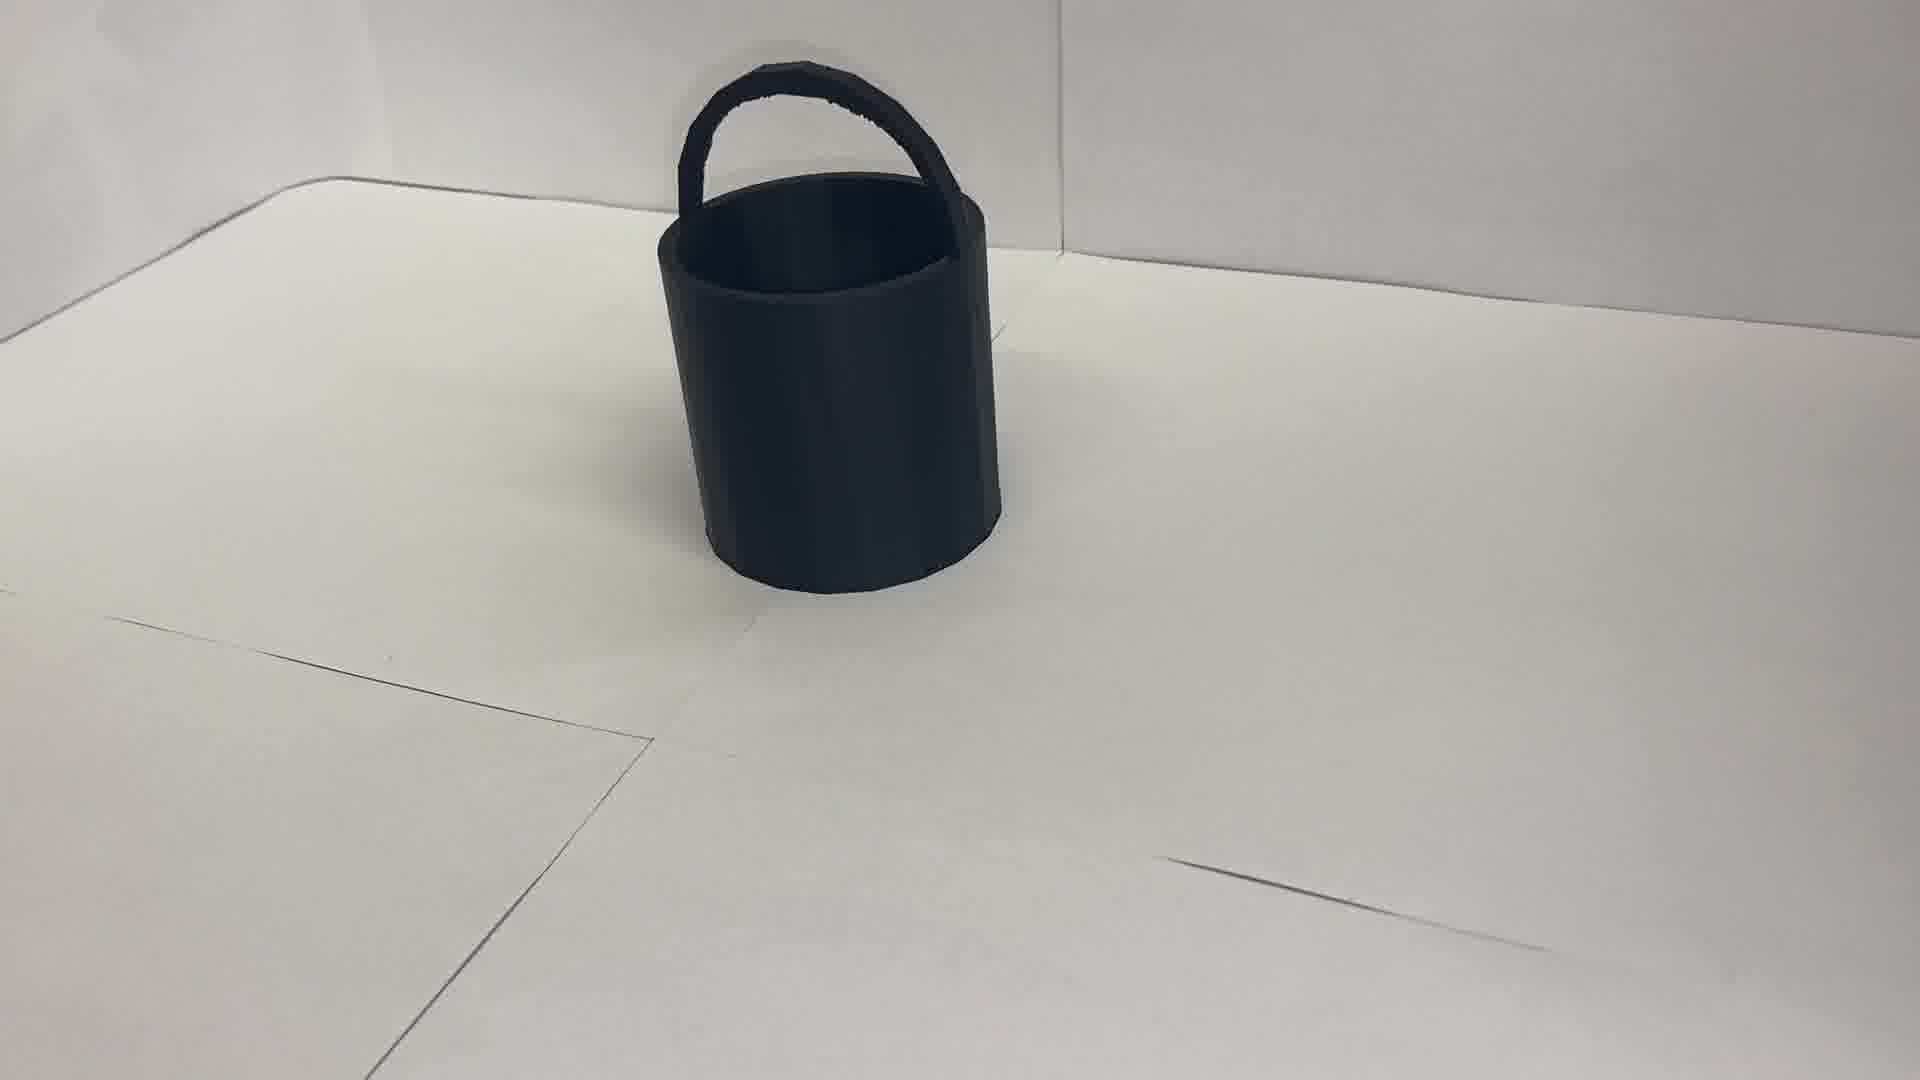bag: (641, 61, 1021, 595)
